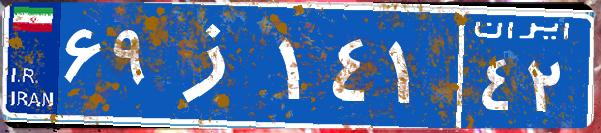1: (385, 28, 445, 110), (273, 28, 330, 110)
2: (525, 38, 570, 115)
4: (330, 28, 385, 110), (475, 38, 525, 113)
6: (57, 26, 110, 107)
9: (110, 28, 158, 105)
ز: (158, 15, 273, 115)
